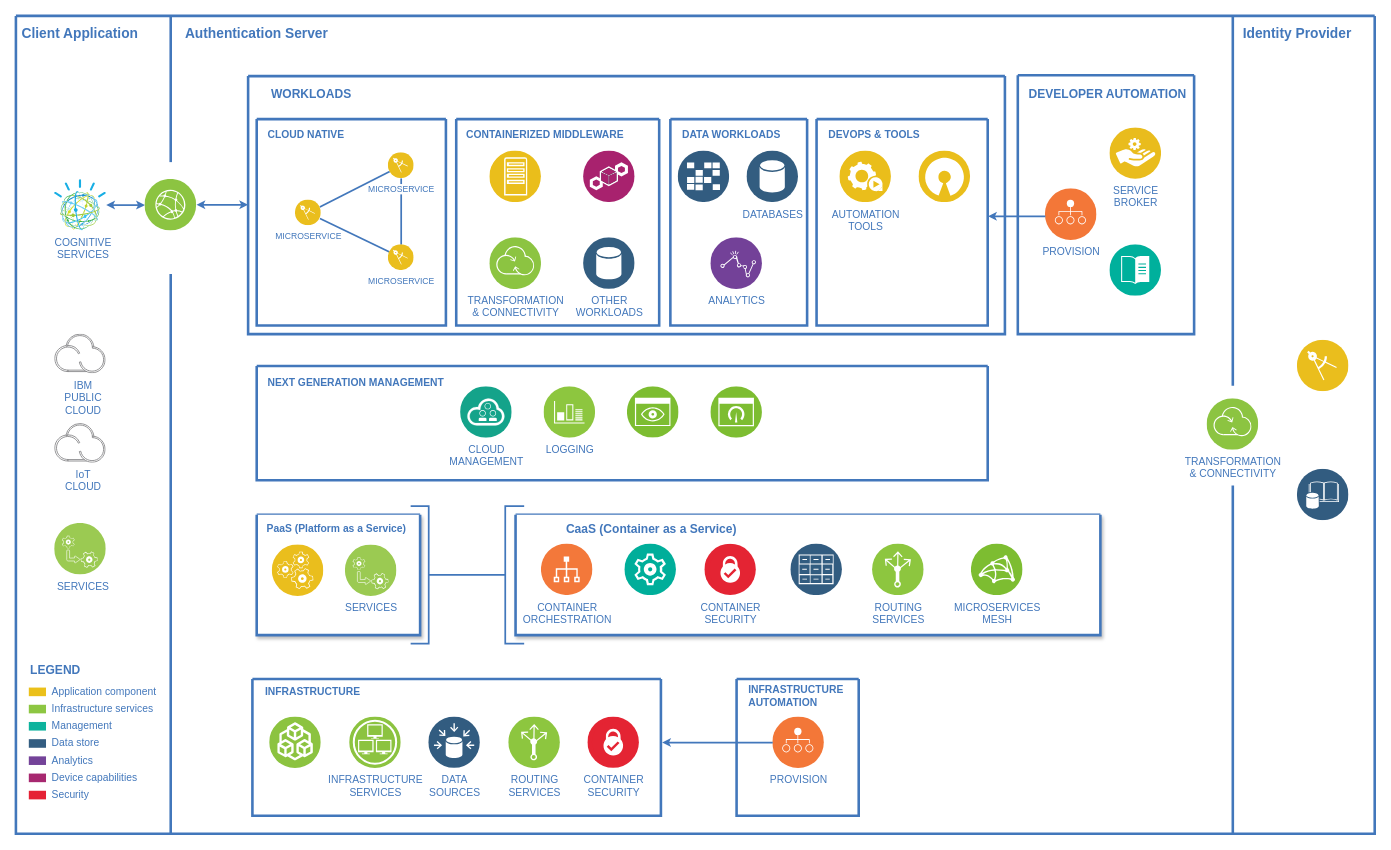
The diagram is 1391 pixels wide and 850 high, and some of its shapes have lost their labels. The shapes that lost their labels are listed below. From the top down, each one's centre as x and y in pixels, then its label:
At (515,176): "APP SERVER".
At (609,176): "BLOCKCHAIN".
At (703,176): "CACHES".
At (944,176): "OPENSOURCE TOOLS".
At (170,204): "EDGE SERVICES".
At (1135,270): "CONTAINER CATALOG".
At (1322,365): "ENTERPRISE MIDDLEWARE".
At (653,412): "MONITORING".
At (736,412): "DASHBOARD".
At (1322,494): "ENTERPRISE DATA".
At (297,570): "RUNTIME".
At (650,569): "CLUSTER MANAGEMENT".
At (816,569): "IMAGE REPOSITORY".
At (295,742): "EXISTING ENTERPRISE SYSTEMS".
